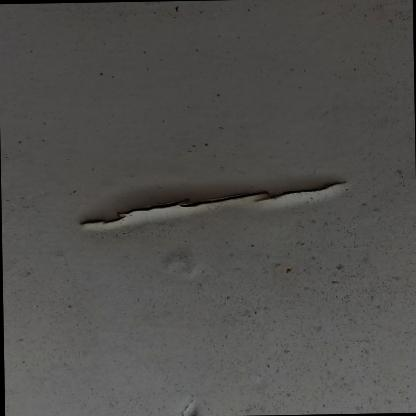Crack: (57, 162, 350, 251), (157, 396, 213, 415)
